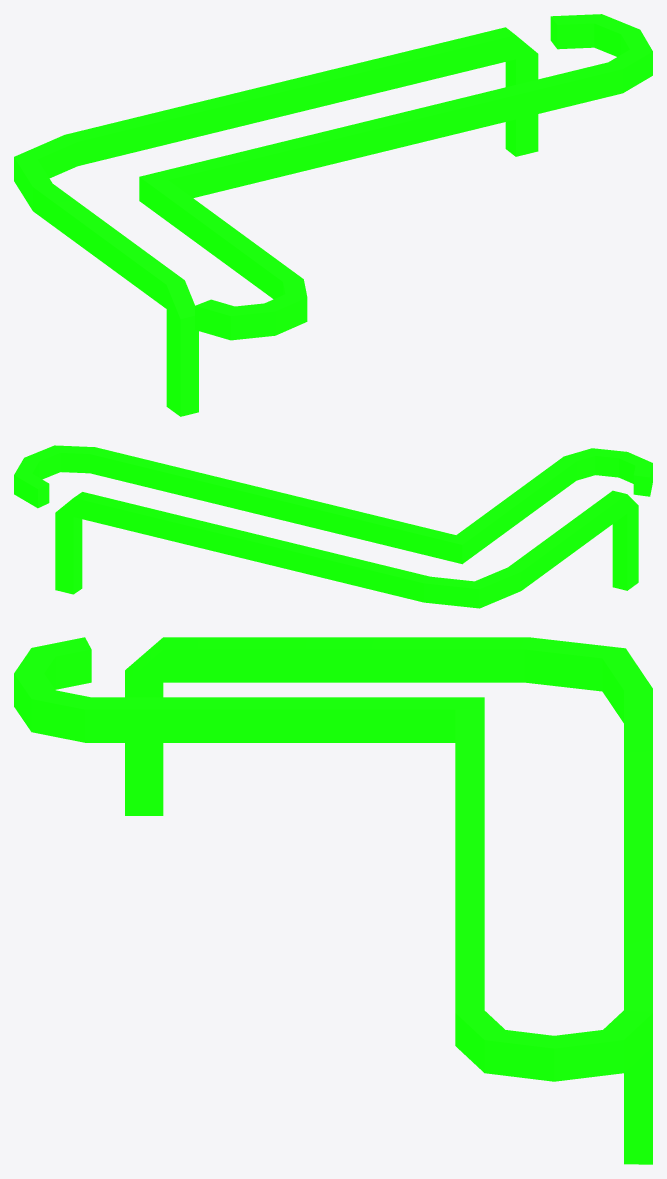
The model's file is Alphabet_3D_04_L.FBX.
3 renders of one model, top to bottom at view 1: azimuth 30°, elevation 25°; view 2: azimuth 150°, elevation 25°; view 3: azimuth 270°, elevation 25°, orthographic. The views are drawn at different scales.
Visible parts, largest first — view 1: Alphabet_3D_04_L; view 2: Alphabet_3D_04_L; view 3: Alphabet_3D_04_L.
Part boxes in pixels (<box>): Alphabet_3D_04_L: <box>14,14,652,416</box>; Alphabet_3D_04_L: <box>14,445,652,608</box>; Alphabet_3D_04_L: <box>14,637,652,1164</box>.
Size of the model in its own units: 66.94 by 12.63 by 43.94.
